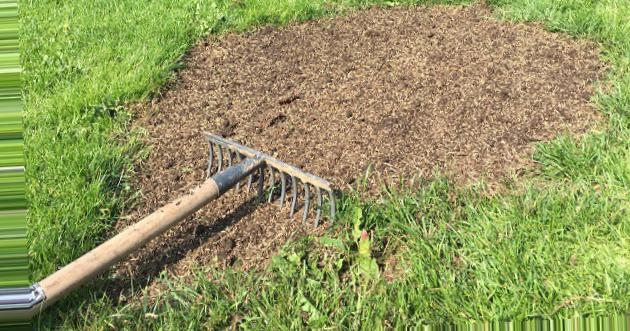patch: (319, 30, 427, 115), (433, 17, 520, 118), (212, 46, 312, 114), (283, 125, 427, 162), (129, 123, 187, 191), (202, 212, 270, 255), (443, 122, 504, 165)
